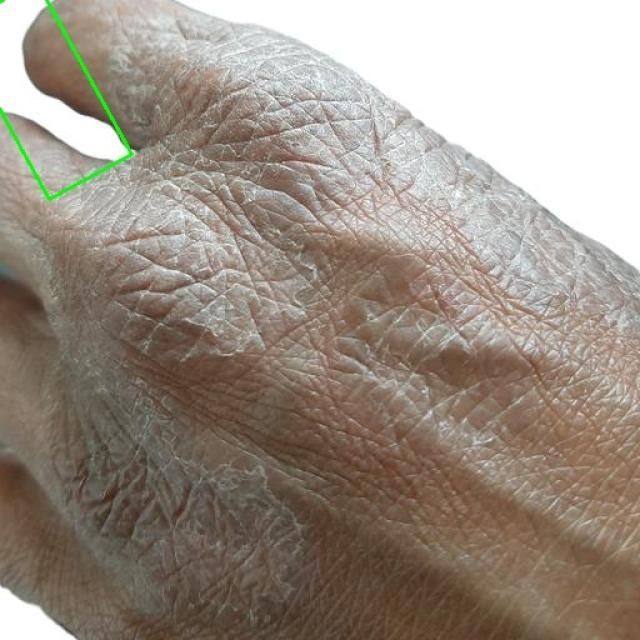Contact Dermatitis: (0, 0, 138, 200)
